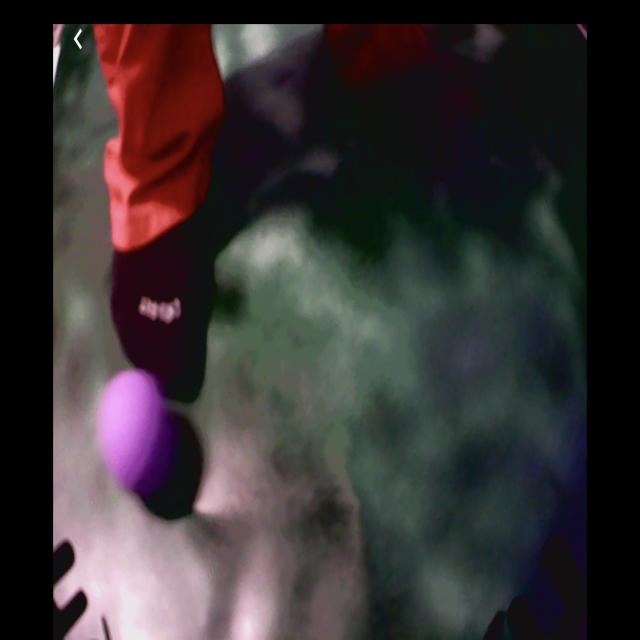ball: (98, 370, 176, 493)
